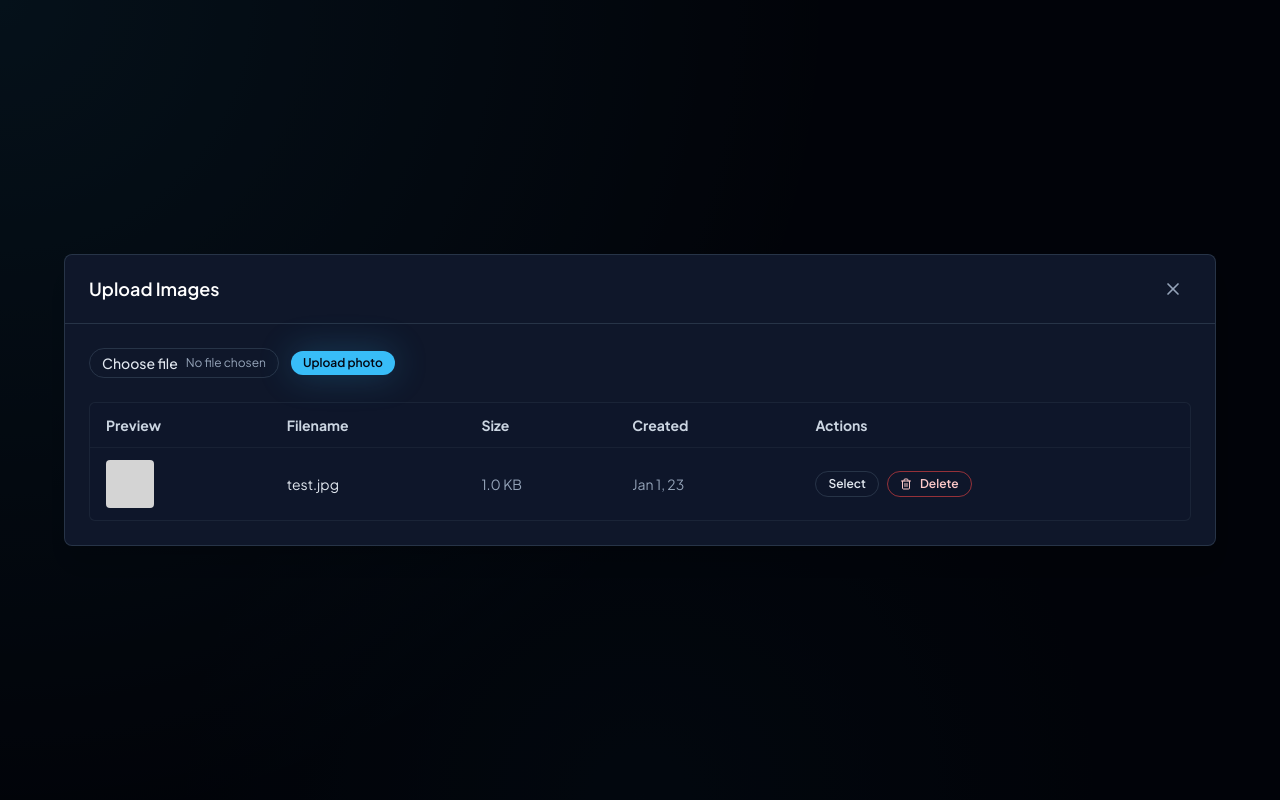
ImageUploaderModal › deletes upload successfully
Expected: the text "test.jpg" is shown, [271,448,465,520]
Click delete button in table
Click the button "Delete": {"x": 929, "y": 484} [887,471,972,497]
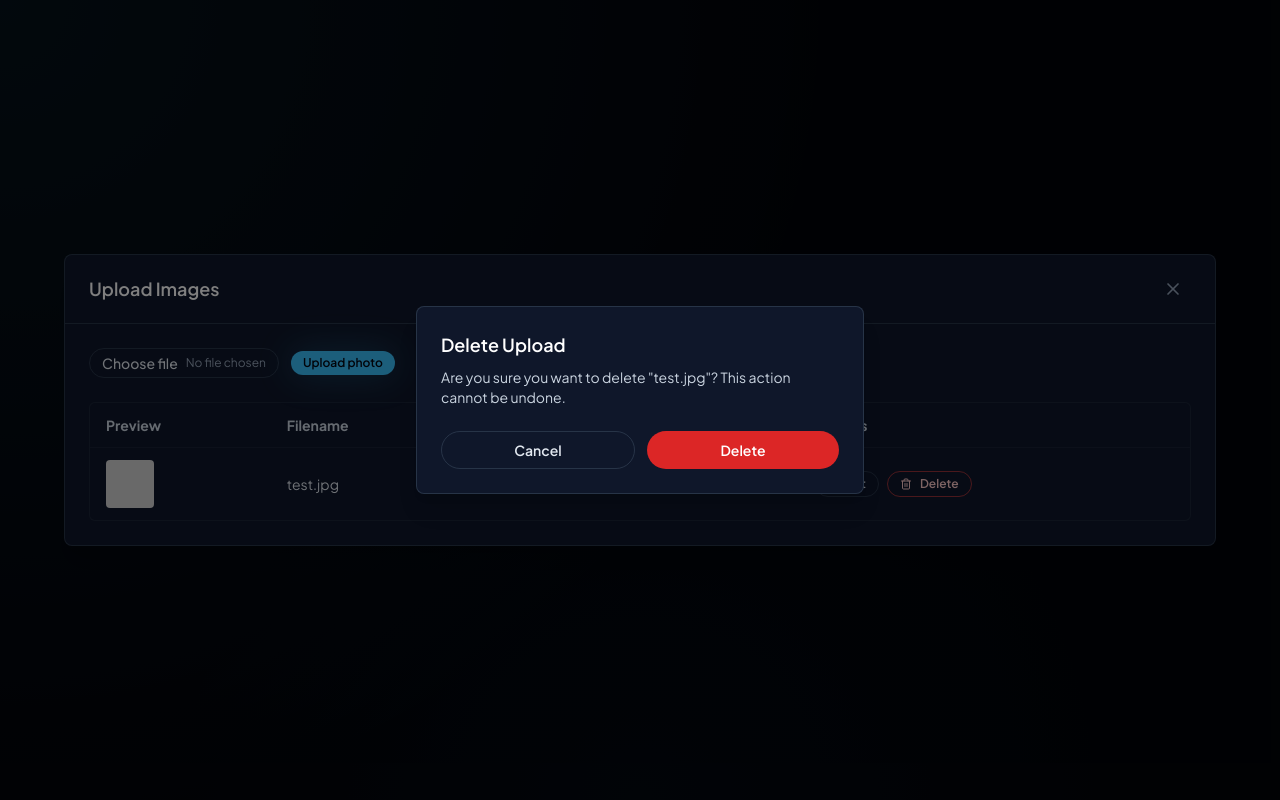
Confirm delete in modal
Click the button "Delete": {"x": 743, "y": 450} [647,431,839,469]
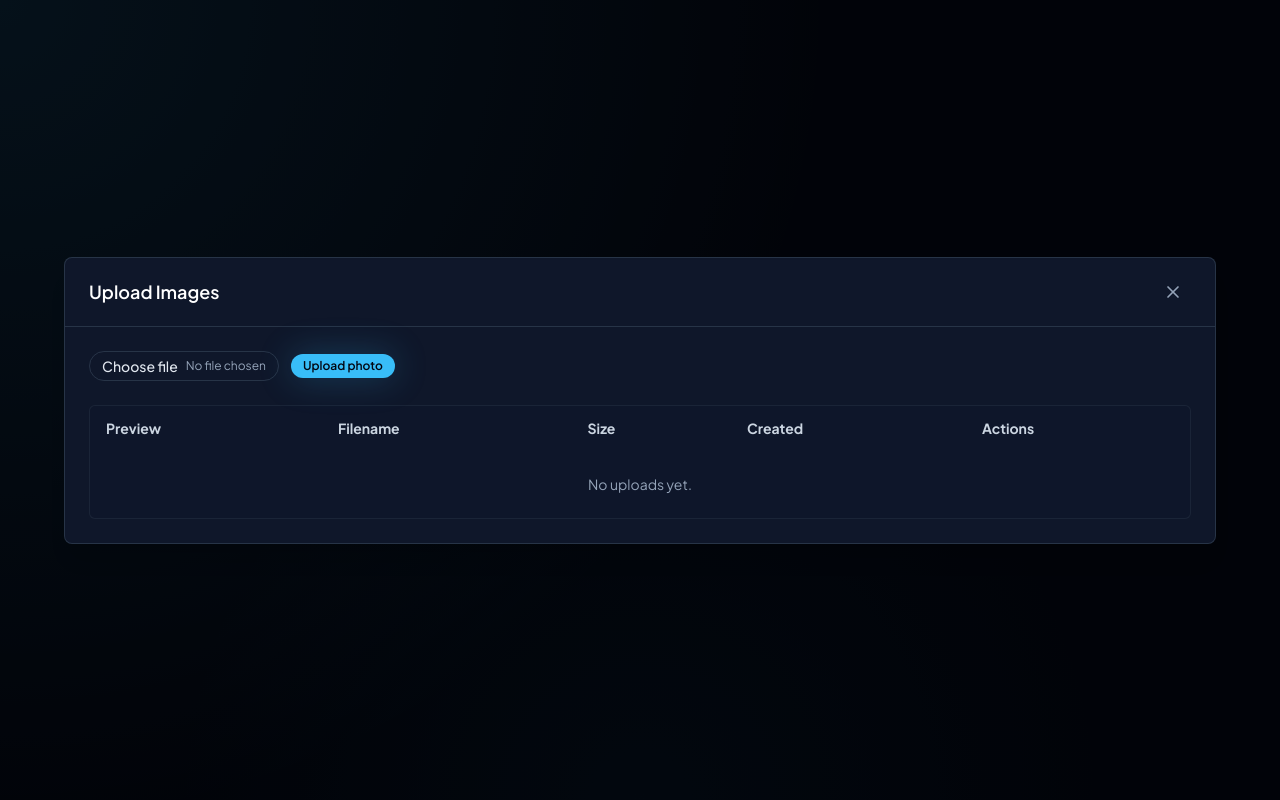
Result: the text "test.jpg" is gone
